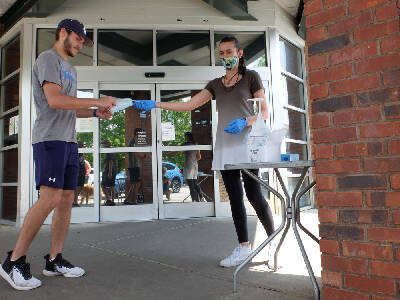Person: (134, 34, 279, 269), (1, 18, 117, 292)
